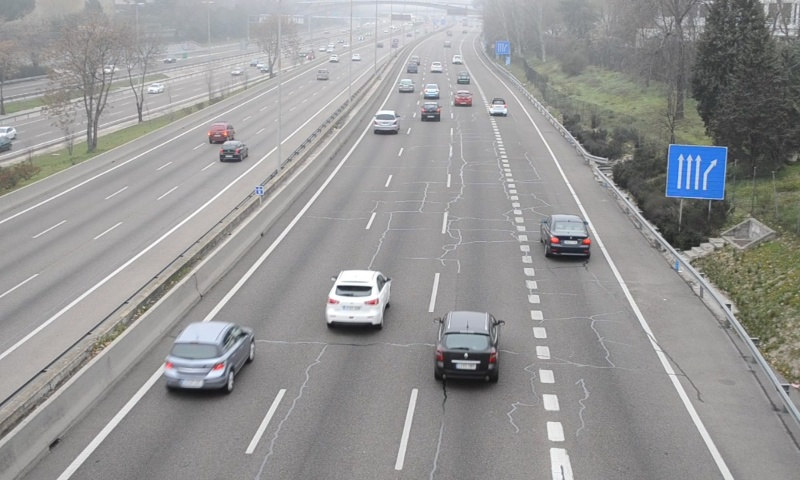car: (162, 322, 254, 392), (432, 310, 500, 382), (326, 270, 392, 328), (540, 214, 594, 262), (372, 110, 400, 134), (421, 101, 441, 122), (488, 96, 508, 116), (454, 90, 473, 107), (423, 83, 440, 100), (397, 78, 415, 94)
